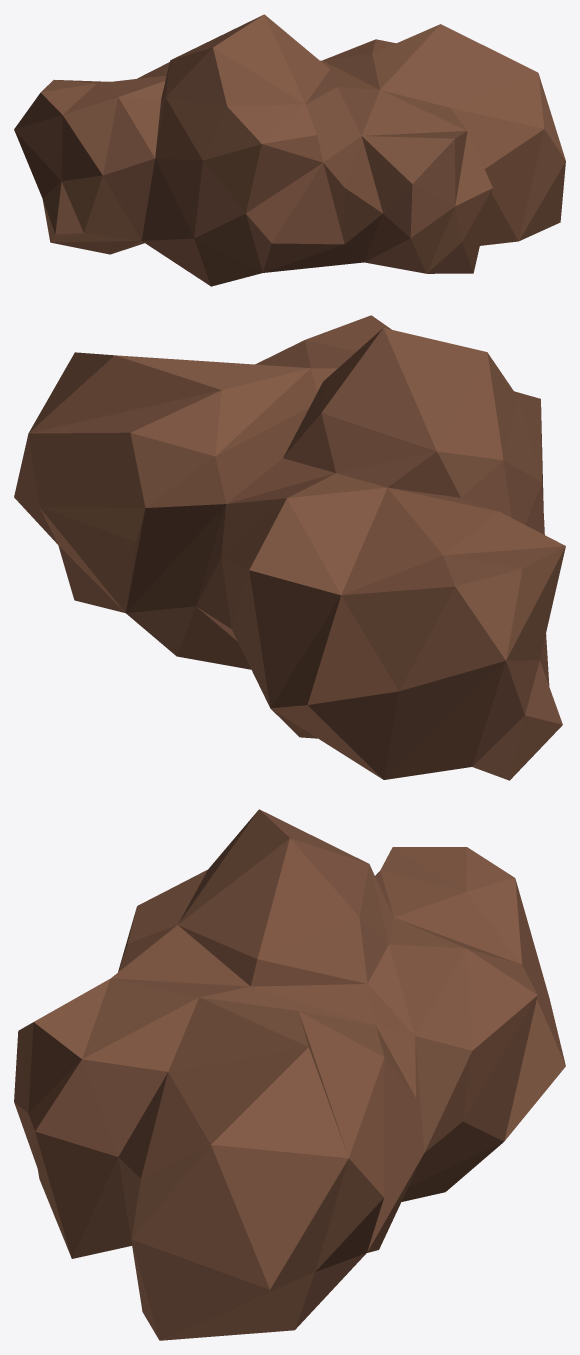
File: Rock_Three_1128.fbx
3 renders of one model, top to bottom at view 1: azimuth 30°, elevation 25°; view 2: azimuth 150°, elevation 25°; view 3: azimuth 270°, elevation 25°, orthographic. The views are drawn at different scales.
Parts seen in each view (by area): view 1: Rock.003; view 2: Rock.003; view 3: Rock.003.
Part boxes in pixels (x1,y1,x2,y2): Rock.003: (14, 14, 565, 286); Rock.003: (14, 315, 565, 780); Rock.003: (14, 809, 565, 1340).
Size of the model in its own units: 13635 by 7452 by 10608.
